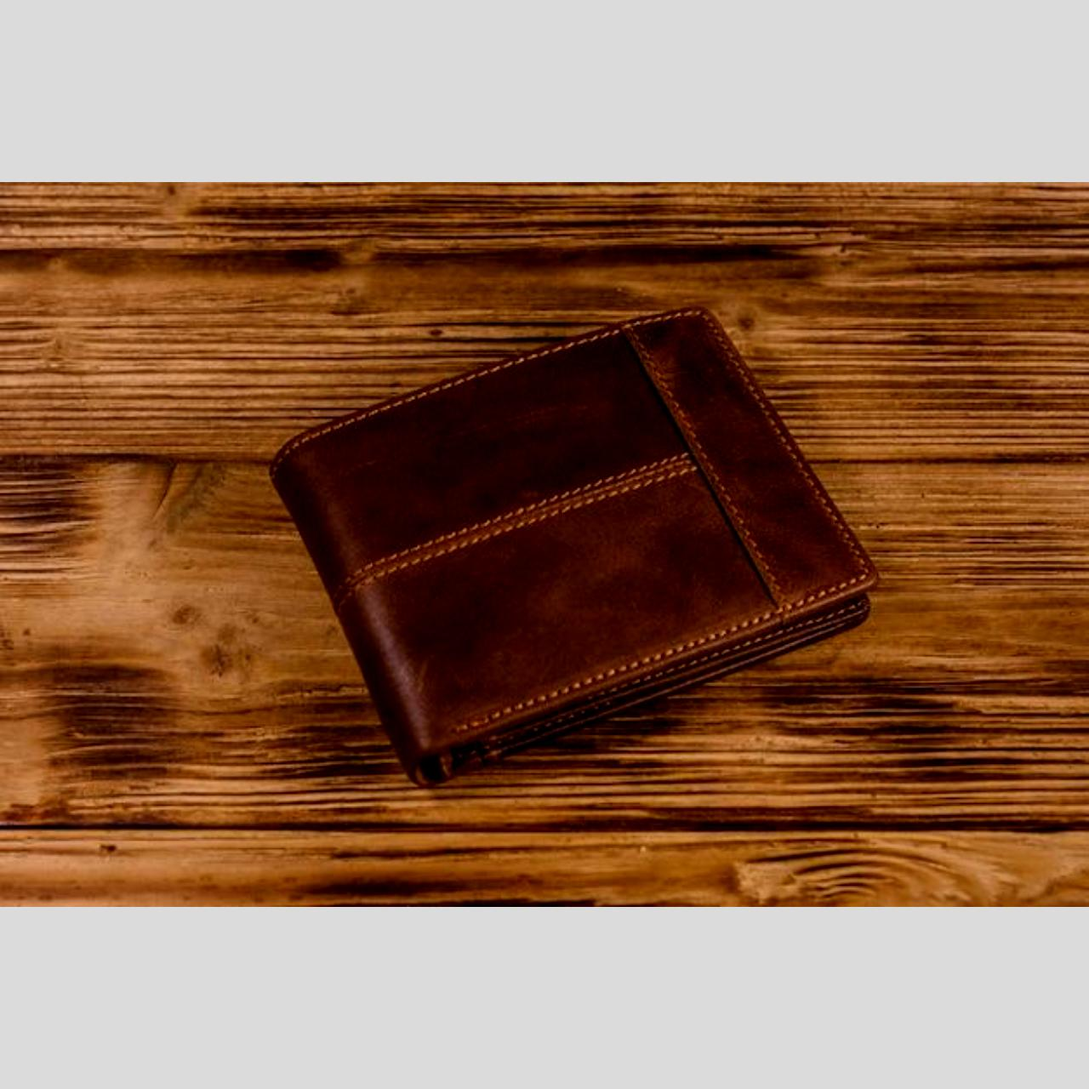wallet: (189, 262, 1026, 783)
